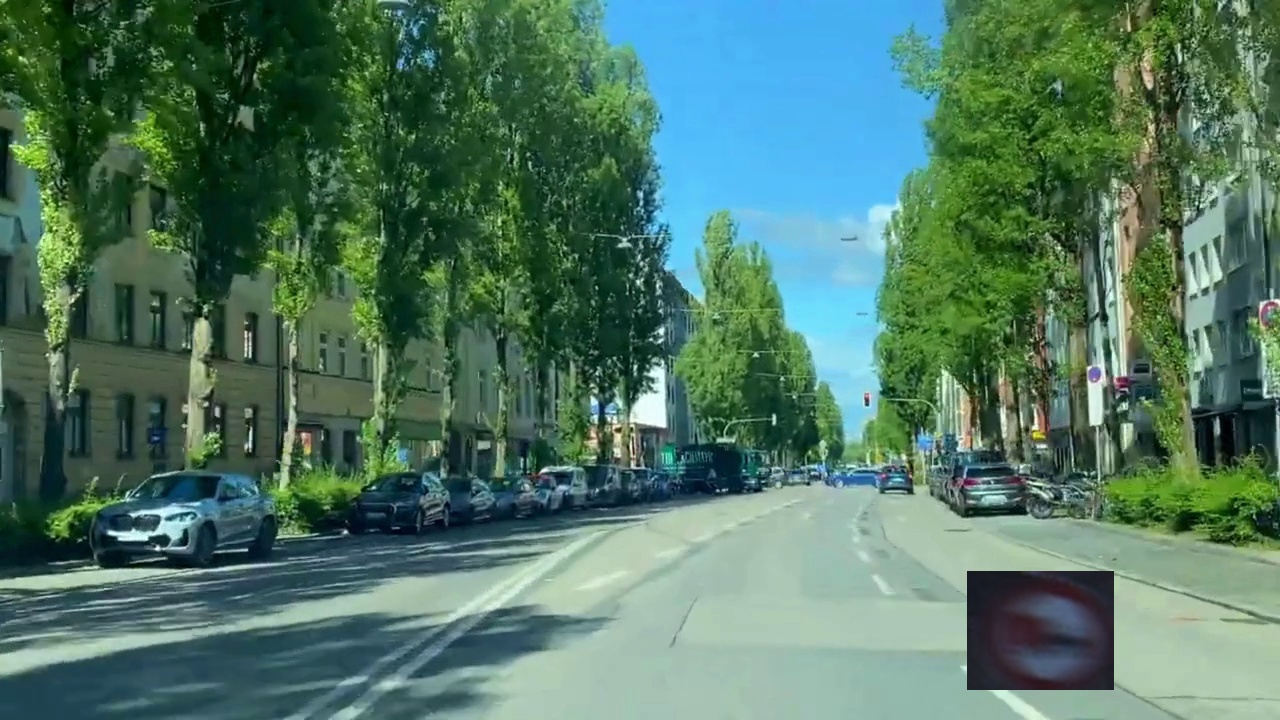No pass >3.5t: (967, 571, 1114, 690)
